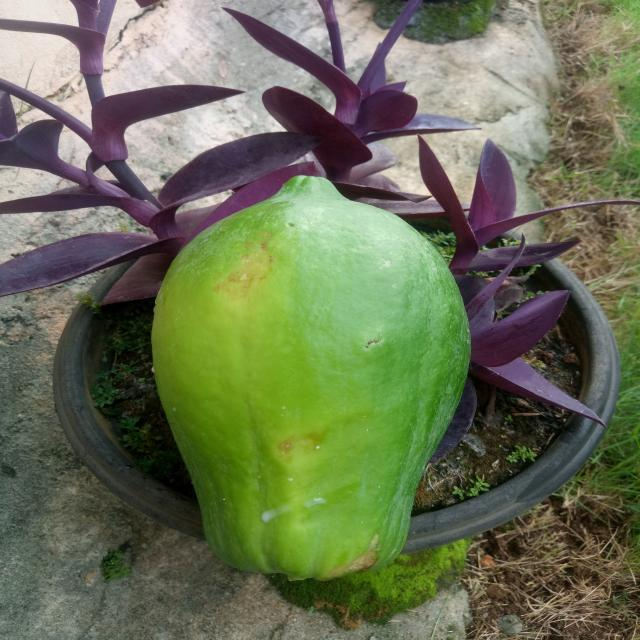Pepaya unrippen: (135, 170, 481, 581)
